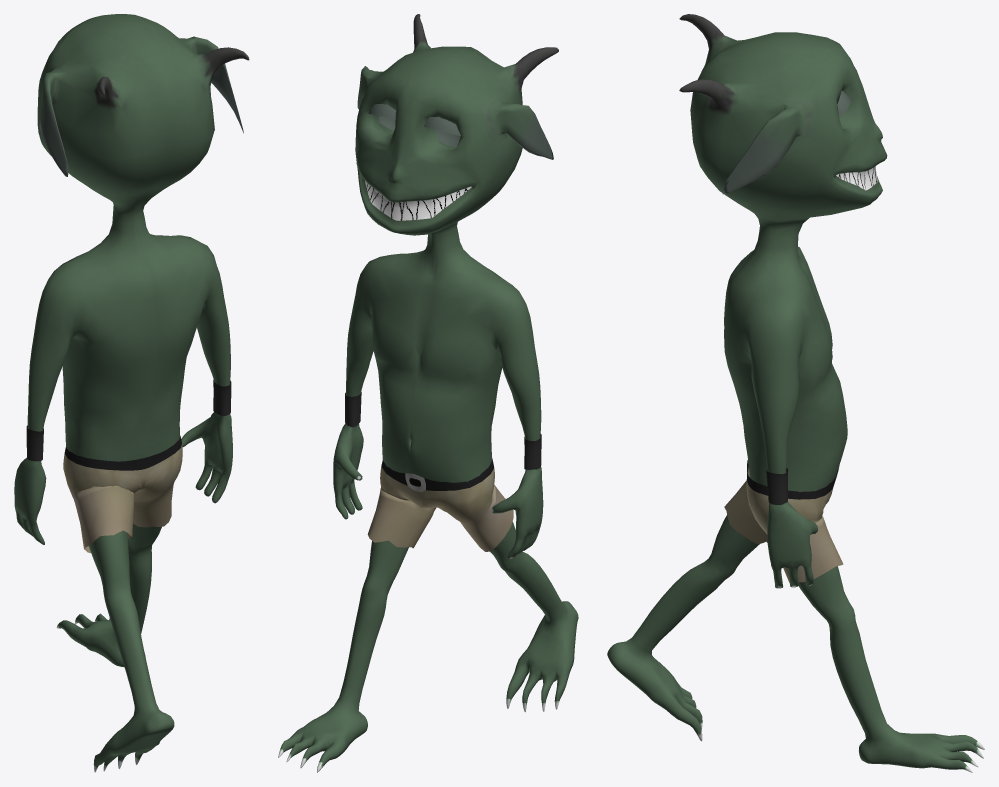
Rendered from lwjglcharactergoblin10_000025.obj.
3 views of the same model, side by side, from view 1: azimuth 30°, elevation 25°; view 2: azimuth 150°, elevation 25°; view 3: azimuth 270°, elevation 25° (orthographic). The views are drawn at different scales.
Parts seen in each view (by area): view 1: Cube.002; view 2: Cube.002; view 3: Cube.002.
Part boxes in pixels (left/top/right/bottom): Cube.002: left=14, top=14, right=249, bottom=772; Cube.002: left=278, top=14, right=578, bottom=772; Cube.002: left=607, top=14, right=984, bottom=772.
Size of the model in its own units: 1.18 by 3.84 by 1.83.
